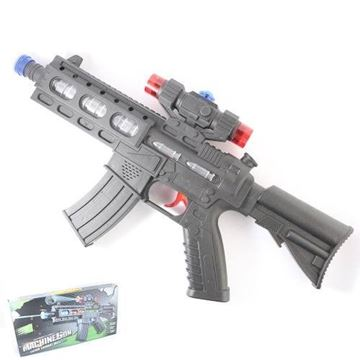Arma Falsa: (12, 48, 352, 305)
